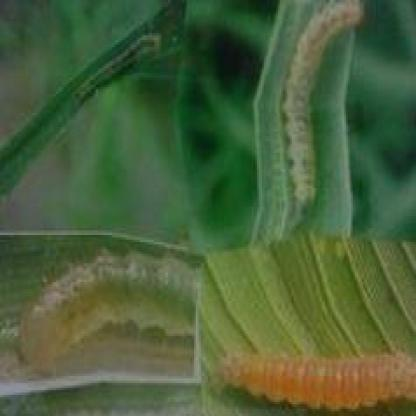leaf-folder: (4, 236, 222, 380), (47, 15, 169, 161), (233, 330, 416, 416), (272, 0, 337, 222)
